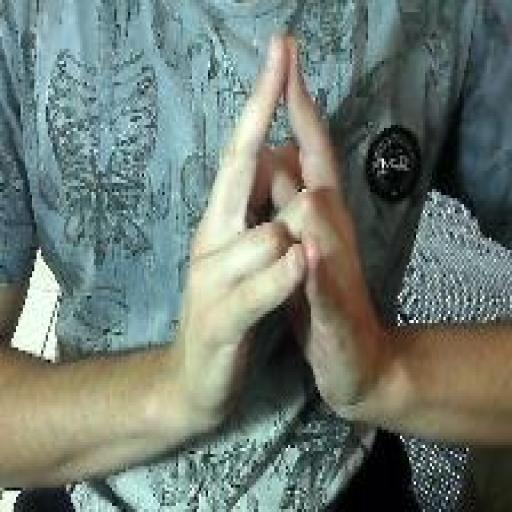Tori -bird-: (172, 32, 383, 434)
